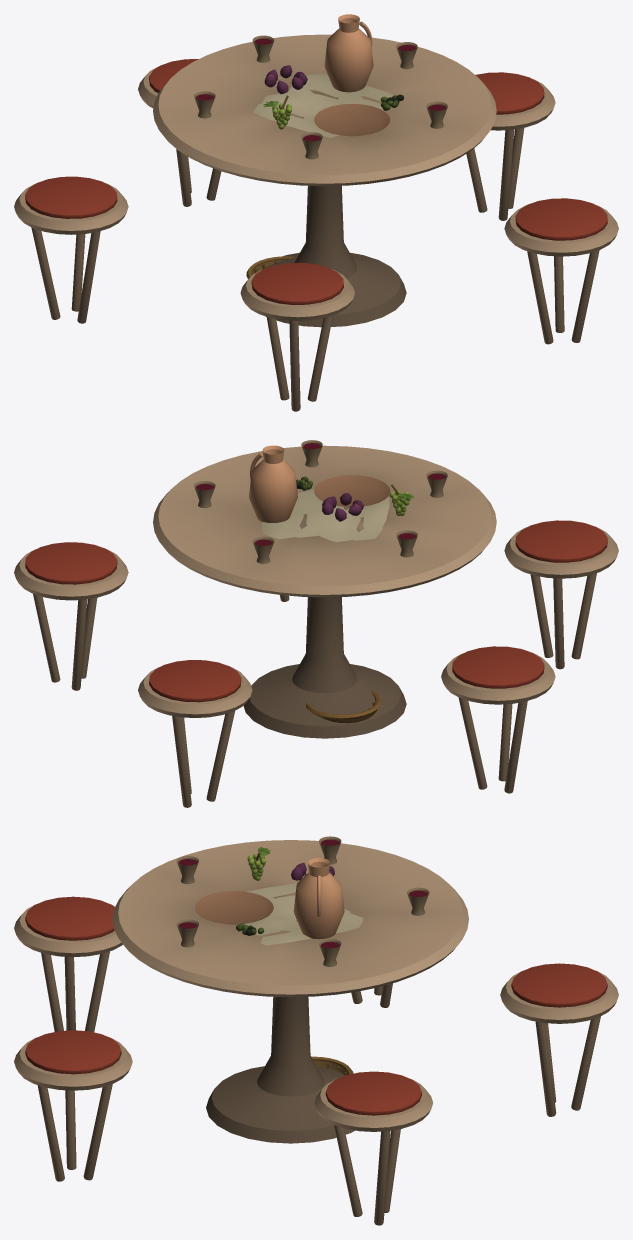
Rendered from obj_kit_friends.glb.
3 views of the same model, one above another, from view 1: azimuth 30°, elevation 25°; view 2: azimuth 150°, elevation 25°; view 3: azimuth 270°, elevation 25° (orthographic). The views are drawn at different scales.
Visible parts, largest first — view 1: top, ped, cloth, Cylinder.015, Cylinder.005, Cylinder.010, jug, seat.001, seat.003, seat.002, Cylinder.020, plate (+14 smaller); view 2: top, ped, cloth, Cylinder.010, Cylinder.020, Cylinder.005, Cylinder, jug, seat.001, seat.002, seat.004, seat (+13 smaller); view 3: top, ped, Cylinder, Cylinder.015, Cylinder.020, Cylinder.010, jug, cloth, seat.003, seat.004, seat, plate (+12 smaller).
Boxes of the visible parts, x1=… form: top: x1=153, y1=34, x2=496, y2=186; ped: x1=265, y1=186, x2=406, y2=327; cloth: x1=253, y1=73, x2=393, y2=137; Cylinder.015: x1=515, y1=198, x2=607, y2=240; Cylinder.005: x1=25, y1=176, x2=117, y2=218; Cylinder.010: x1=251, y1=262, x2=343, y2=304; jug: x1=324, y1=14, x2=373, y2=92; seat.001: x1=14, y1=183, x2=128, y2=234; seat.003: x1=504, y1=205, x2=618, y2=256; seat.002: x1=240, y1=269, x2=354, y2=320; Cylinder.020: x1=475, y1=72, x2=544, y2=114; plate: x1=314, y1=103, x2=390, y2=136; top: x1=153, y1=445, x2=496, y2=597; ped: x1=243, y1=597, x2=406, y2=738; cloth: x1=261, y1=489, x2=389, y2=542; Cylinder.010: x1=515, y1=520, x2=607, y2=562; Cylinder.020: x1=25, y1=542, x2=117, y2=584; Cylinder.005: x1=452, y1=646, x2=544, y2=688; Cylinder: x1=149, y1=660, x2=241, y2=702; jug: x1=249, y1=445, x2=297, y2=522; seat.001: x1=441, y1=653, x2=555, y2=704; seat.002: x1=504, y1=527, x2=618, y2=578; seat.004: x1=14, y1=549, x2=128, y2=600; seat: x1=138, y1=666, x2=252, y2=717; top: x1=112, y1=840, x2=468, y2=997; ped: x1=206, y1=996, x2=354, y2=1143; Cylinder: x1=511, y1=963, x2=607, y2=1007; Cylinder.015: x1=25, y1=1030, x2=121, y2=1074; Cylinder.020: x1=325, y1=1071, x2=421, y2=1115; Cylinder.010: x1=25, y1=896, x2=114, y2=940; jug: x1=293, y1=858, x2=344, y2=939; cloth: x1=240, y1=883, x2=363, y2=945; seat.003: x1=14, y1=1037, x2=132, y2=1090; seat.004: x1=314, y1=1078, x2=432, y2=1131; seat: x1=500, y1=970, x2=618, y2=1023; plate: x1=194, y1=891, x2=273, y2=924.
Size of the model in its own units: 2.23 by 1.04 by 2.14.
